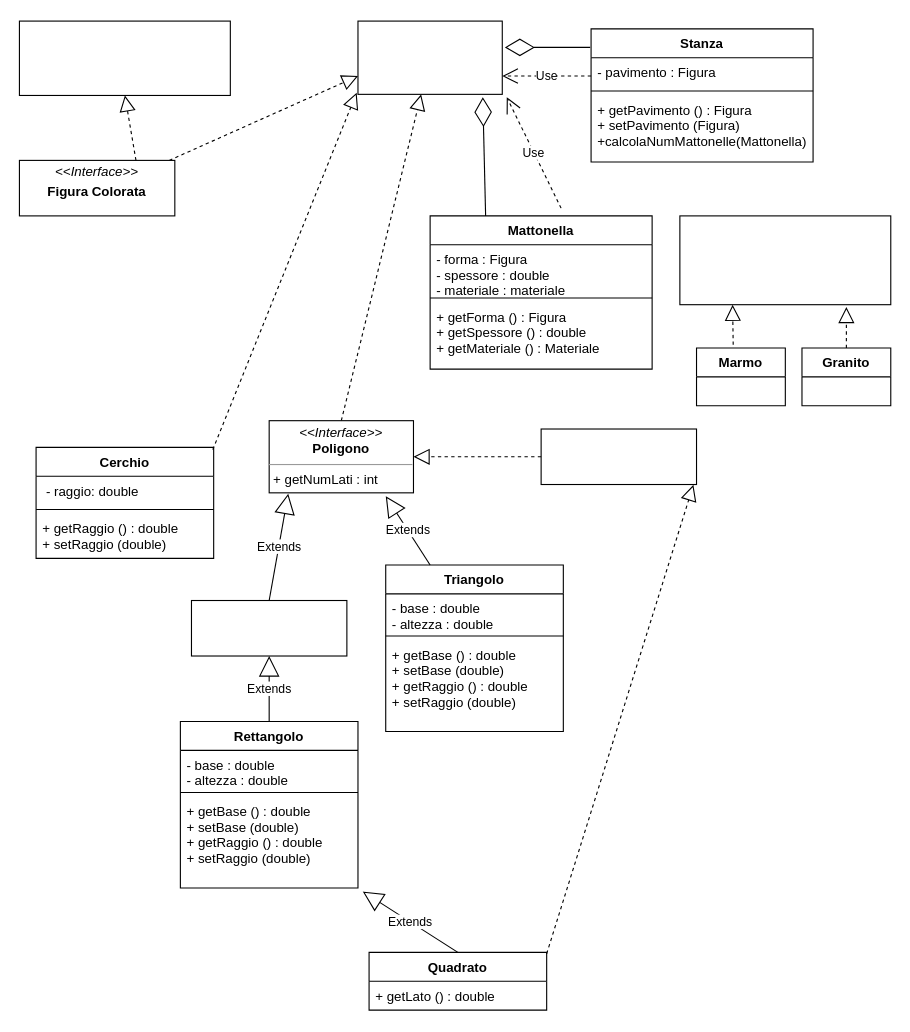
Some shapes in this 910 by 1032 pixel diagram are drawn without their labels. Here are the shapes that lost their labels. From the top down, the centre of each, then its label:
(124,57): <<Interface>> Oggetto Colorato + colora () :void
(429,57): <<Interface>> Figura + area() : double
(785,260): <<Interface>> Materiale + tipo () : String + resistenza () : double
(618,456): <<Interface>> Poligono Regolare
(268,627): <<Interface>> Quadrilatero
